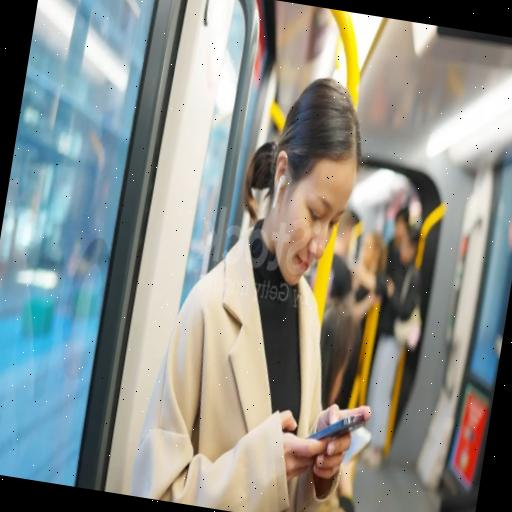earphone: (266, 171, 287, 212)
